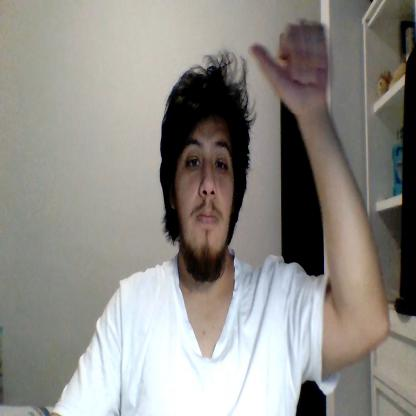A: (249, 20, 330, 110)
